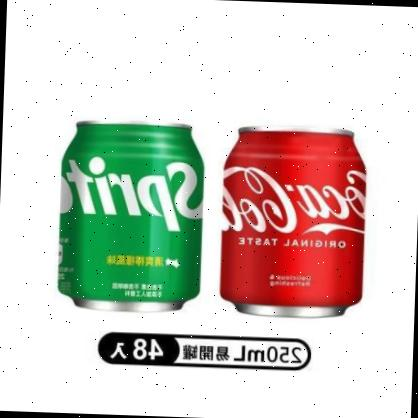can: (217, 122, 370, 316), (58, 120, 204, 310)
